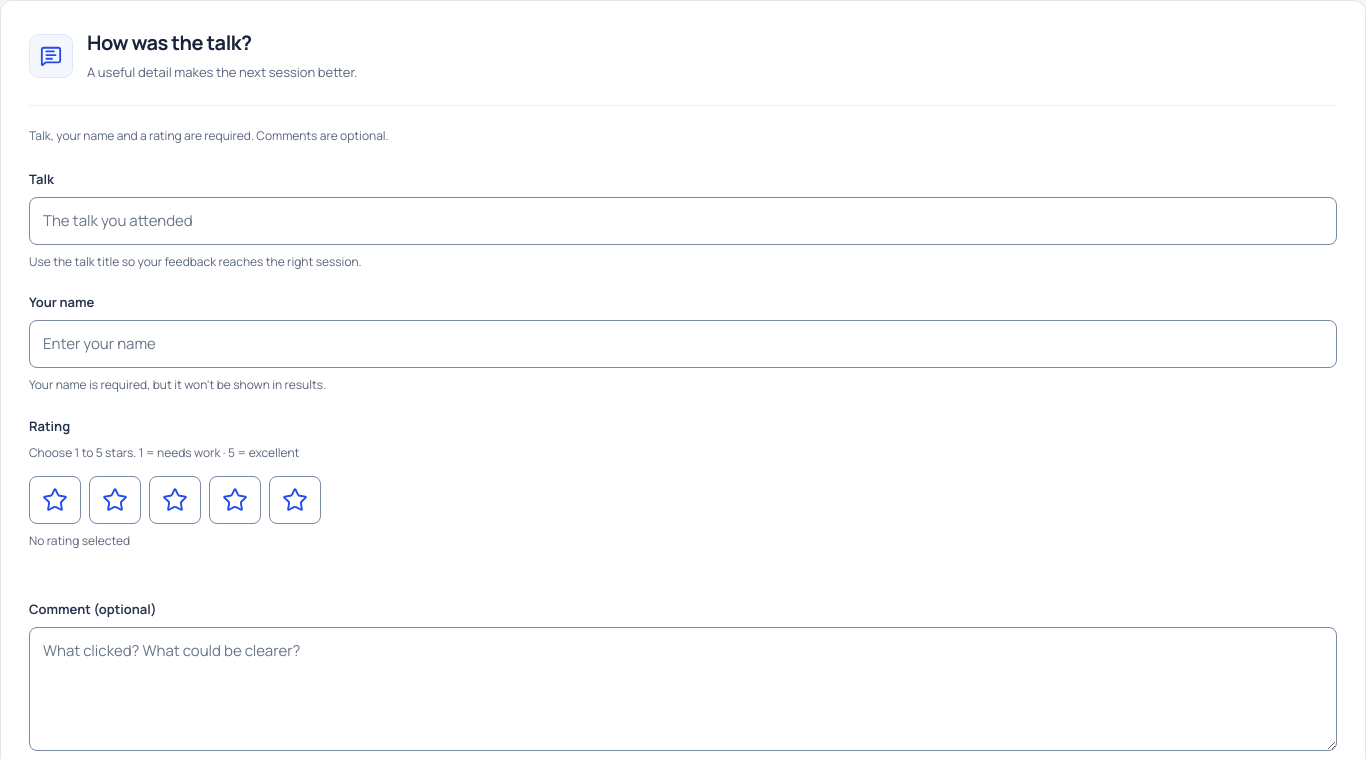
it: never confirms an unexpected response (500)
Step 1. Type "  Engineering bots  " into the field labelled "Talk" → (683, 221), box [29,197,1337,245]
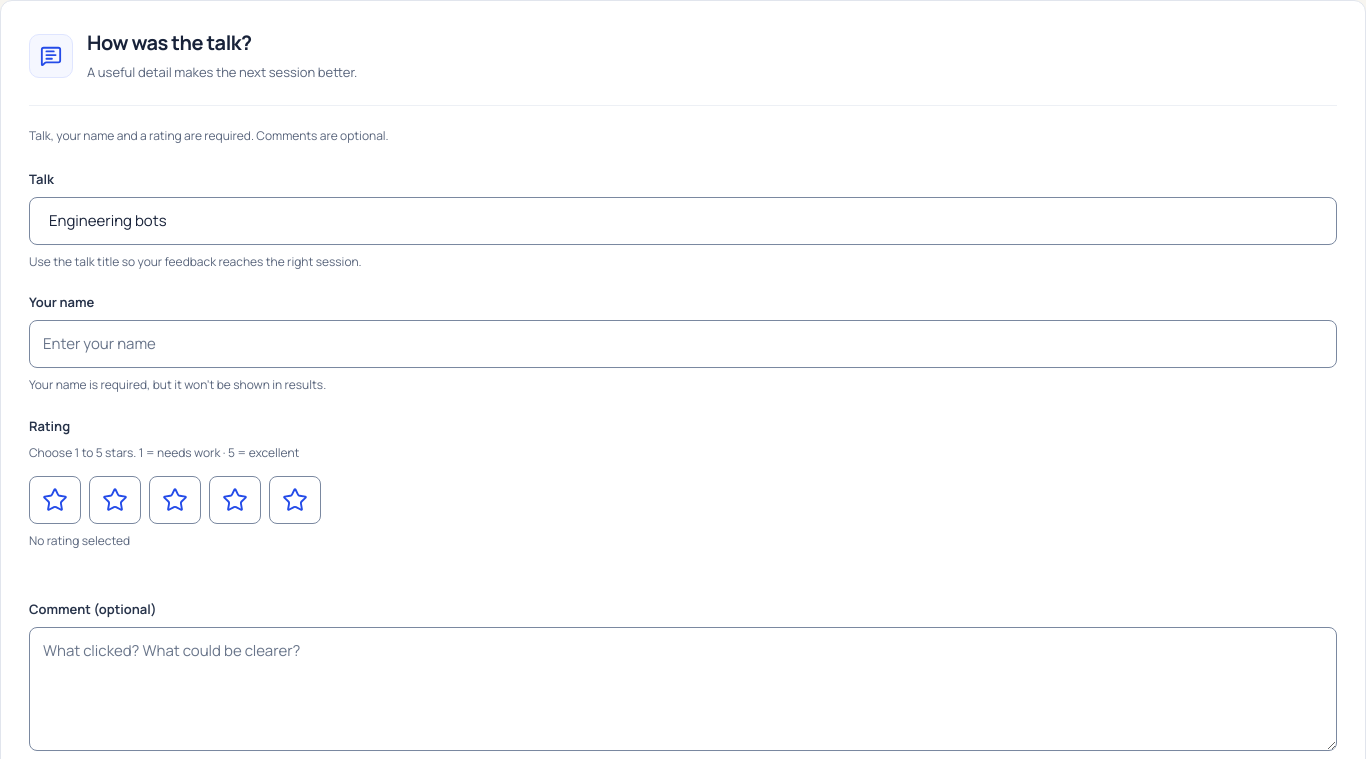
Step 2. Type "  Ana  " into the field labelled "Your name" → (683, 344), box [29,320,1337,368]
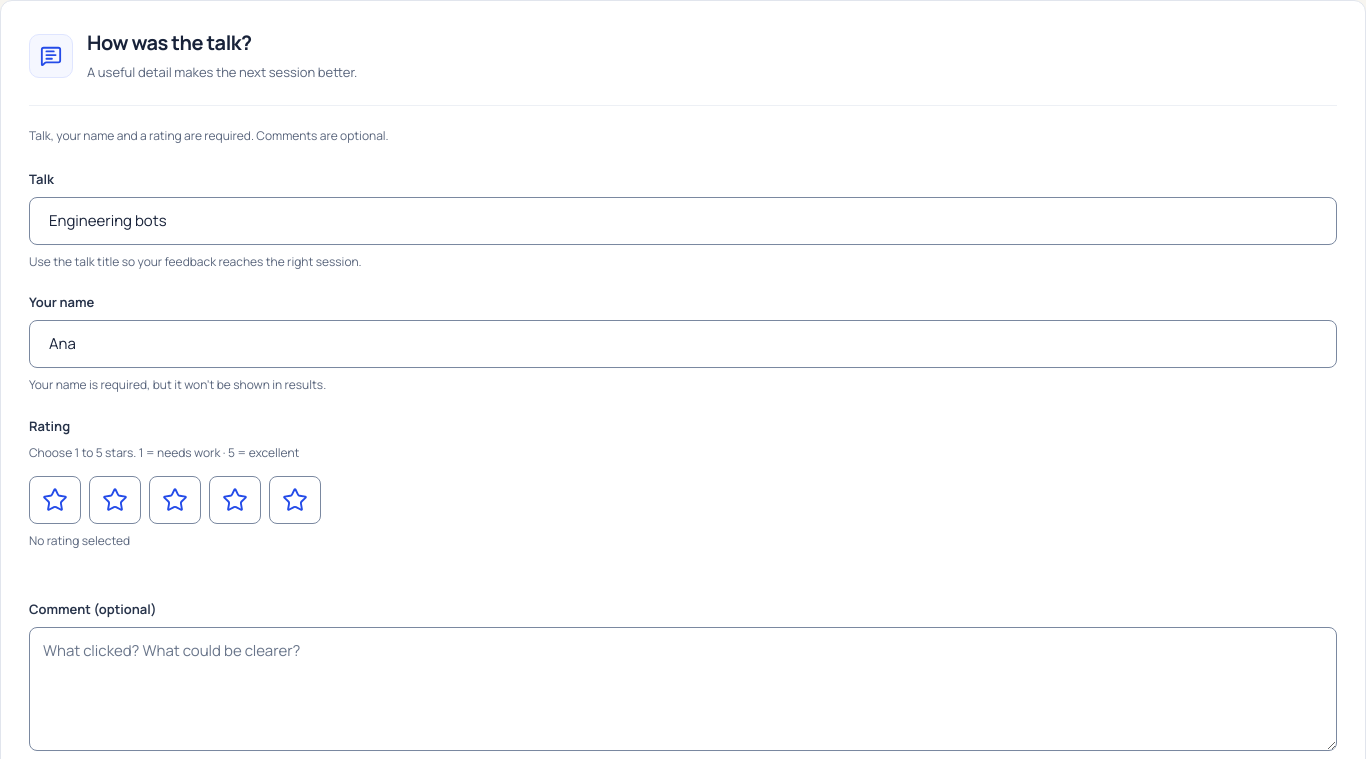
Step 3. Type "  Useful workshop  " into the text box labelled "Comment (optional)" → (683, 689), box [29,627,1337,751]
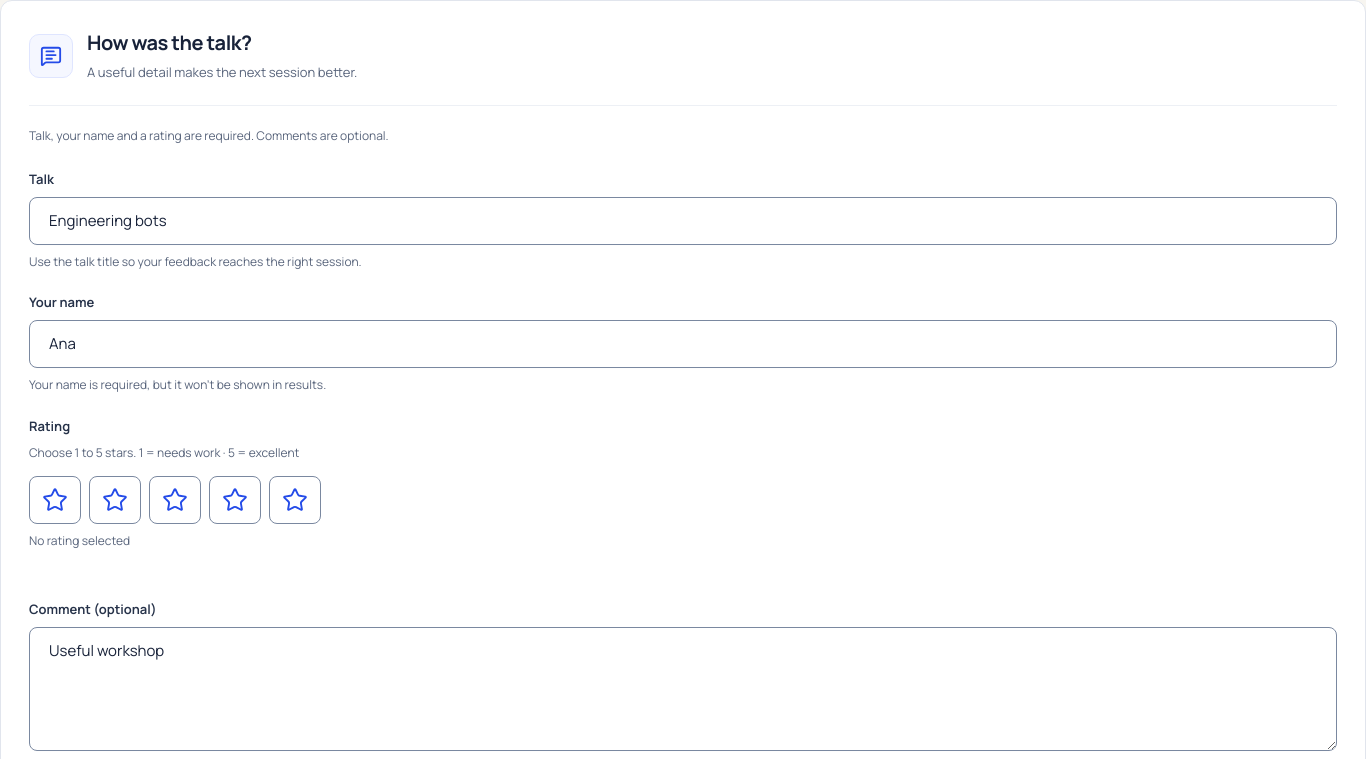
Step 4. Click the radio button named "5 stars" → (295, 500), box [269,476,321,524]
(page scrolled)
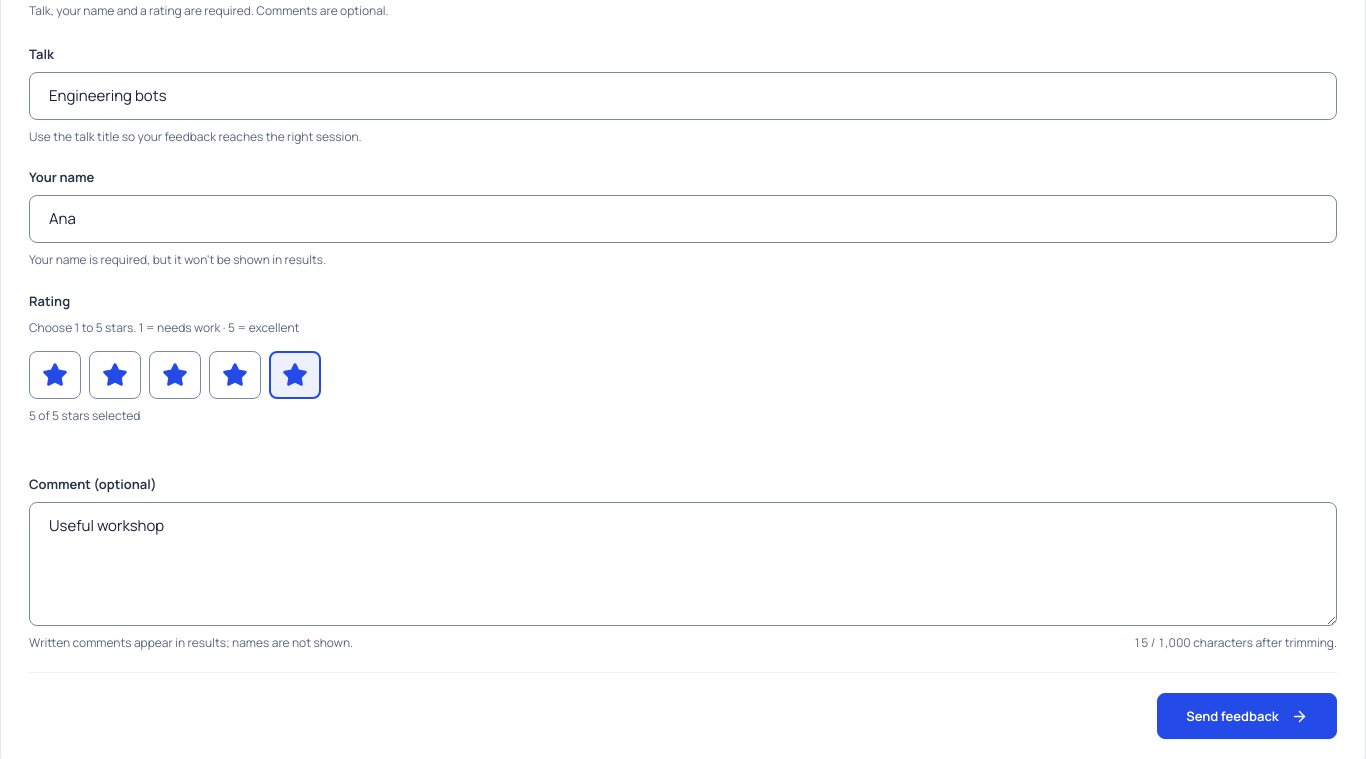
Step 5. Click the button "Send feedback" → (1247, 716), box [1157,693,1337,739]
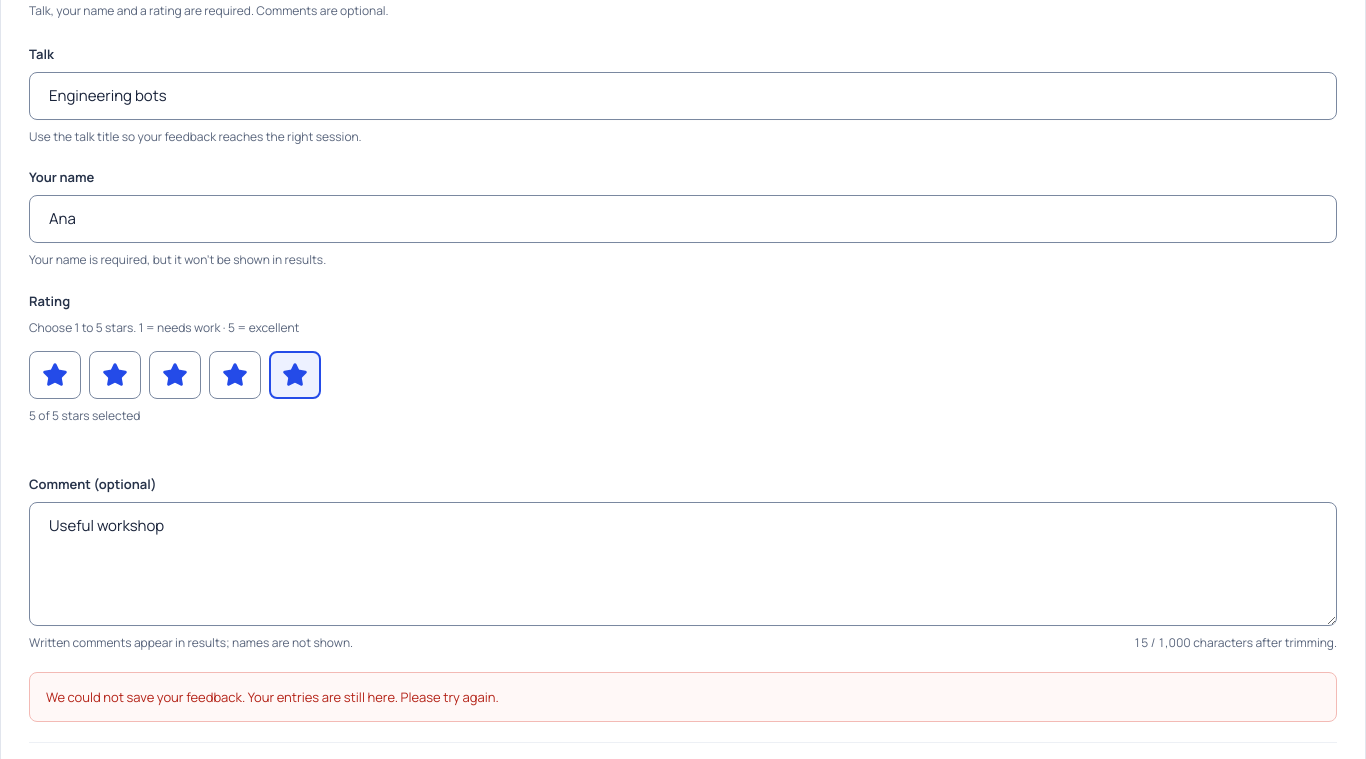
Check: the message shows "could not save", box [46,688,499,706]
